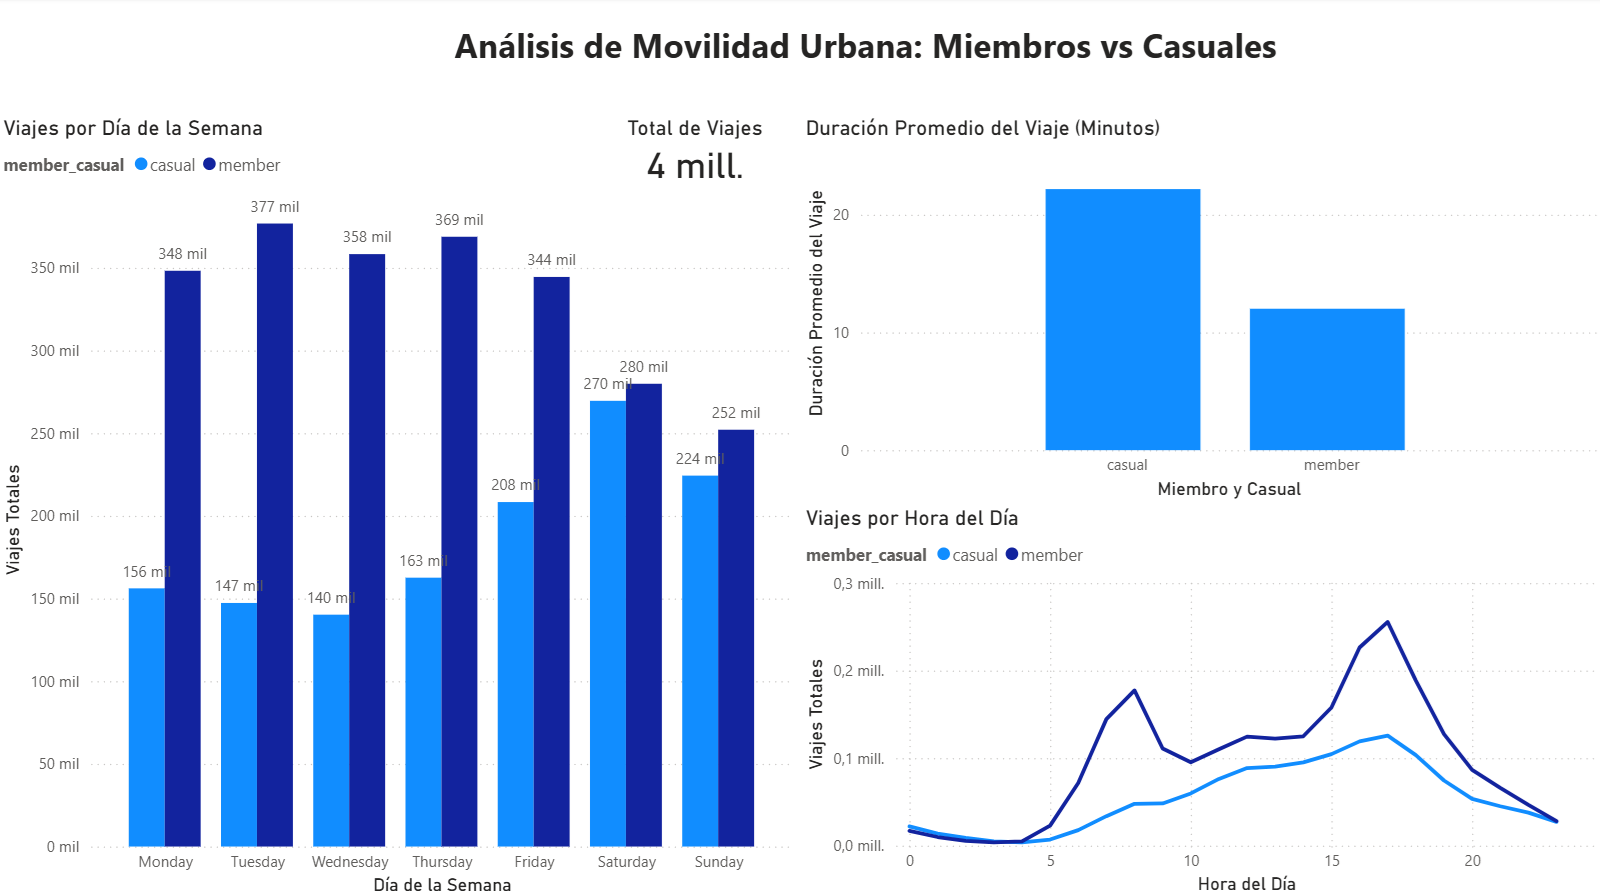

Layout of this report page (visuals, bound fields, positions):
{"tool":"powerbi","page":{"name":"Página 1","canvas":[1280,720],"ordinal":0},"visuals":[{"type":"clusteredColumnChart","title":"Viajes por Día de la Semana","fields":{"Category":["Dia de la semana.day_of_week"],"Series":["Dia de la semana.member_casual"],"Y":["Sum(Dia de la semana.total_rides)"]},"box":[0,93.3,639.5,627.1],"z":0},{"type":"clusteredColumnChart","title":"Duración Promedio del Viaje (Minutos)","fields":{"Y":["Sum(Duración del viaje.promedio_duracion_por_viaje)"],"Category":["Duración del viaje.member_casual"]},"box":[639.5,93.3,640.8,311.5],"z":1000},{"type":"lineChart","title":"Viajes por Hora del Día","fields":{"Series":["Hora del dia.member_casual"],"Category":["Hora del dia.hour_of_day"],"Y":["Sum(Hora del dia.total_rides)"]},"box":[639.5,404.8,640.8,315.6],"z":2000},{"type":"textbox","box":[359.5,15.1,676.5,46.7],"z":3000},{"type":"card","title":"Total de Viajes","fields":{"Values":["Sum(Hora del dia.total_rides)"]},"box":[492.8,93.4,126.3,58.5],"z":4000}]}

Visuals, with their boxes in screenshot pixels (x1, y1, x2, y2), scaled from the page's 1280x720 canvas onto the 1600x896 screenshot:
"Viajes por Día de la Semana" clusteredColumnChart: 0 116 799 895
"Duración Promedio del Viaje (Minutos)" clusteredColumnChart: 799 116 1599 504
"Viajes por Hora del Día" lineChart: 799 504 1599 895
textbox: 449 19 1295 77
"Total de Viajes" card: 616 116 774 189
